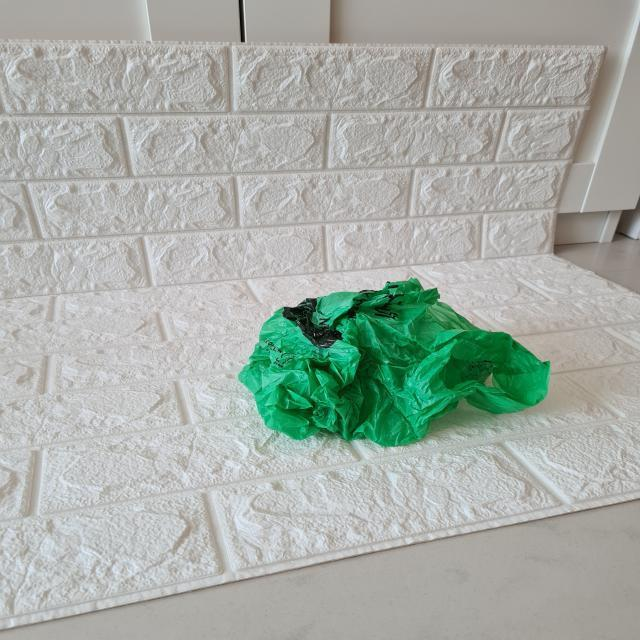Plastic_Bag: (216, 268, 574, 452)
